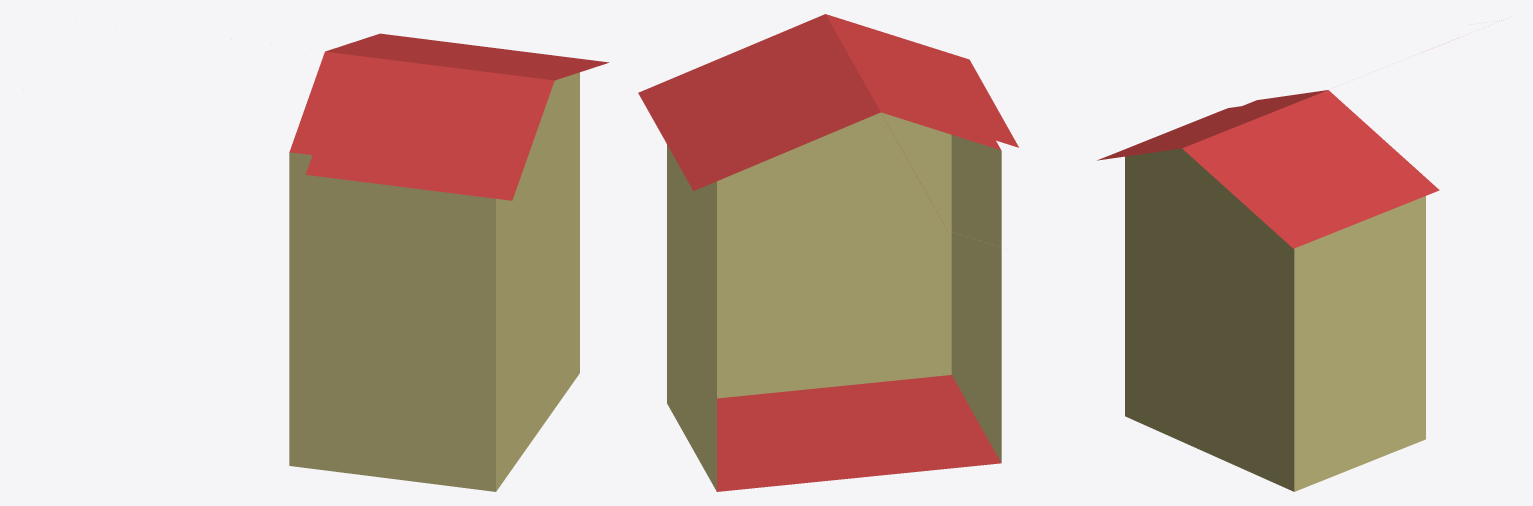
3 views of the same model, side by side, from view 1: azimuth 30°, elevation 25°; view 2: azimuth 150°, elevation 25°; view 3: azimuth 270°, elevation 25° (orthographic). The views are drawn at different scales.
Bounding box in the file's own units: 12.27 × 10.4 × 8.31.
